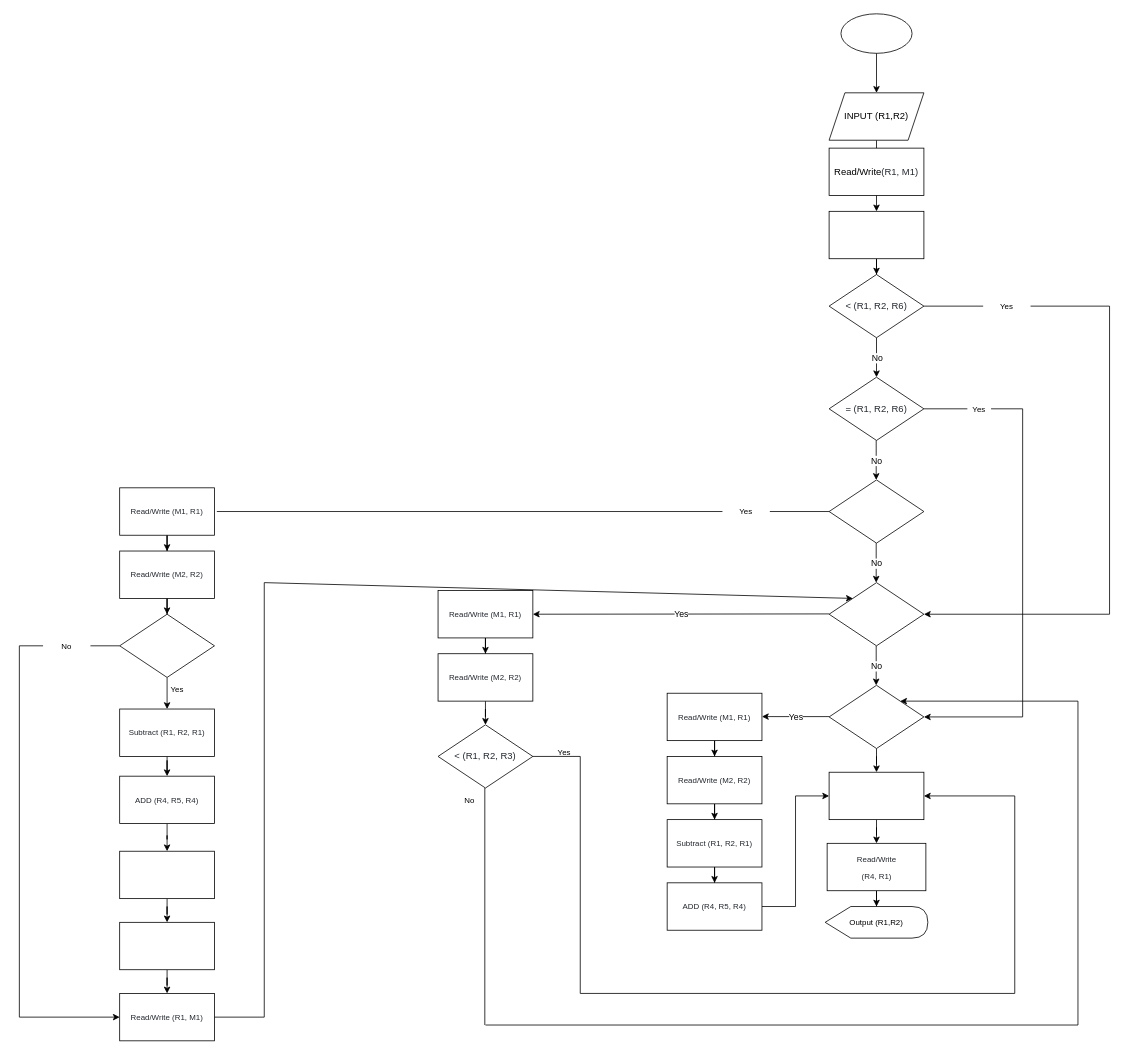
This 1130x1055 diagram has some shape labels left out. Each missing label, with the centre of its shape:
> (R1, R2, R3): the point at 166,645
ADD (R1, R2, R1): the point at 166,874
IsBıgger (M1, M2, R3): the point at 876,511
IsEqual (M1, M2, R4): the point at 876,717
IsSmaller (M1, M2, R3): the point at 876,614
Read/Write (R1, R2): the point at 876,795
Read/Write (R2, M2): the point at 876,235
START: the point at 876,33
Subtract (R4, R5, R4): the point at 166,946
